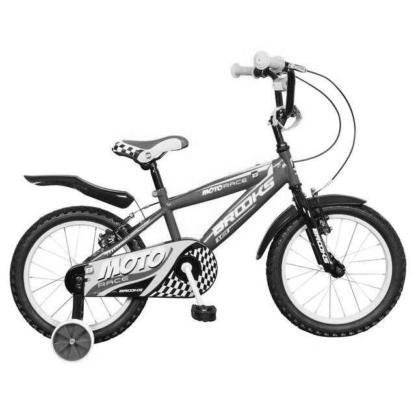Bicycle: (1, 26, 415, 369)
